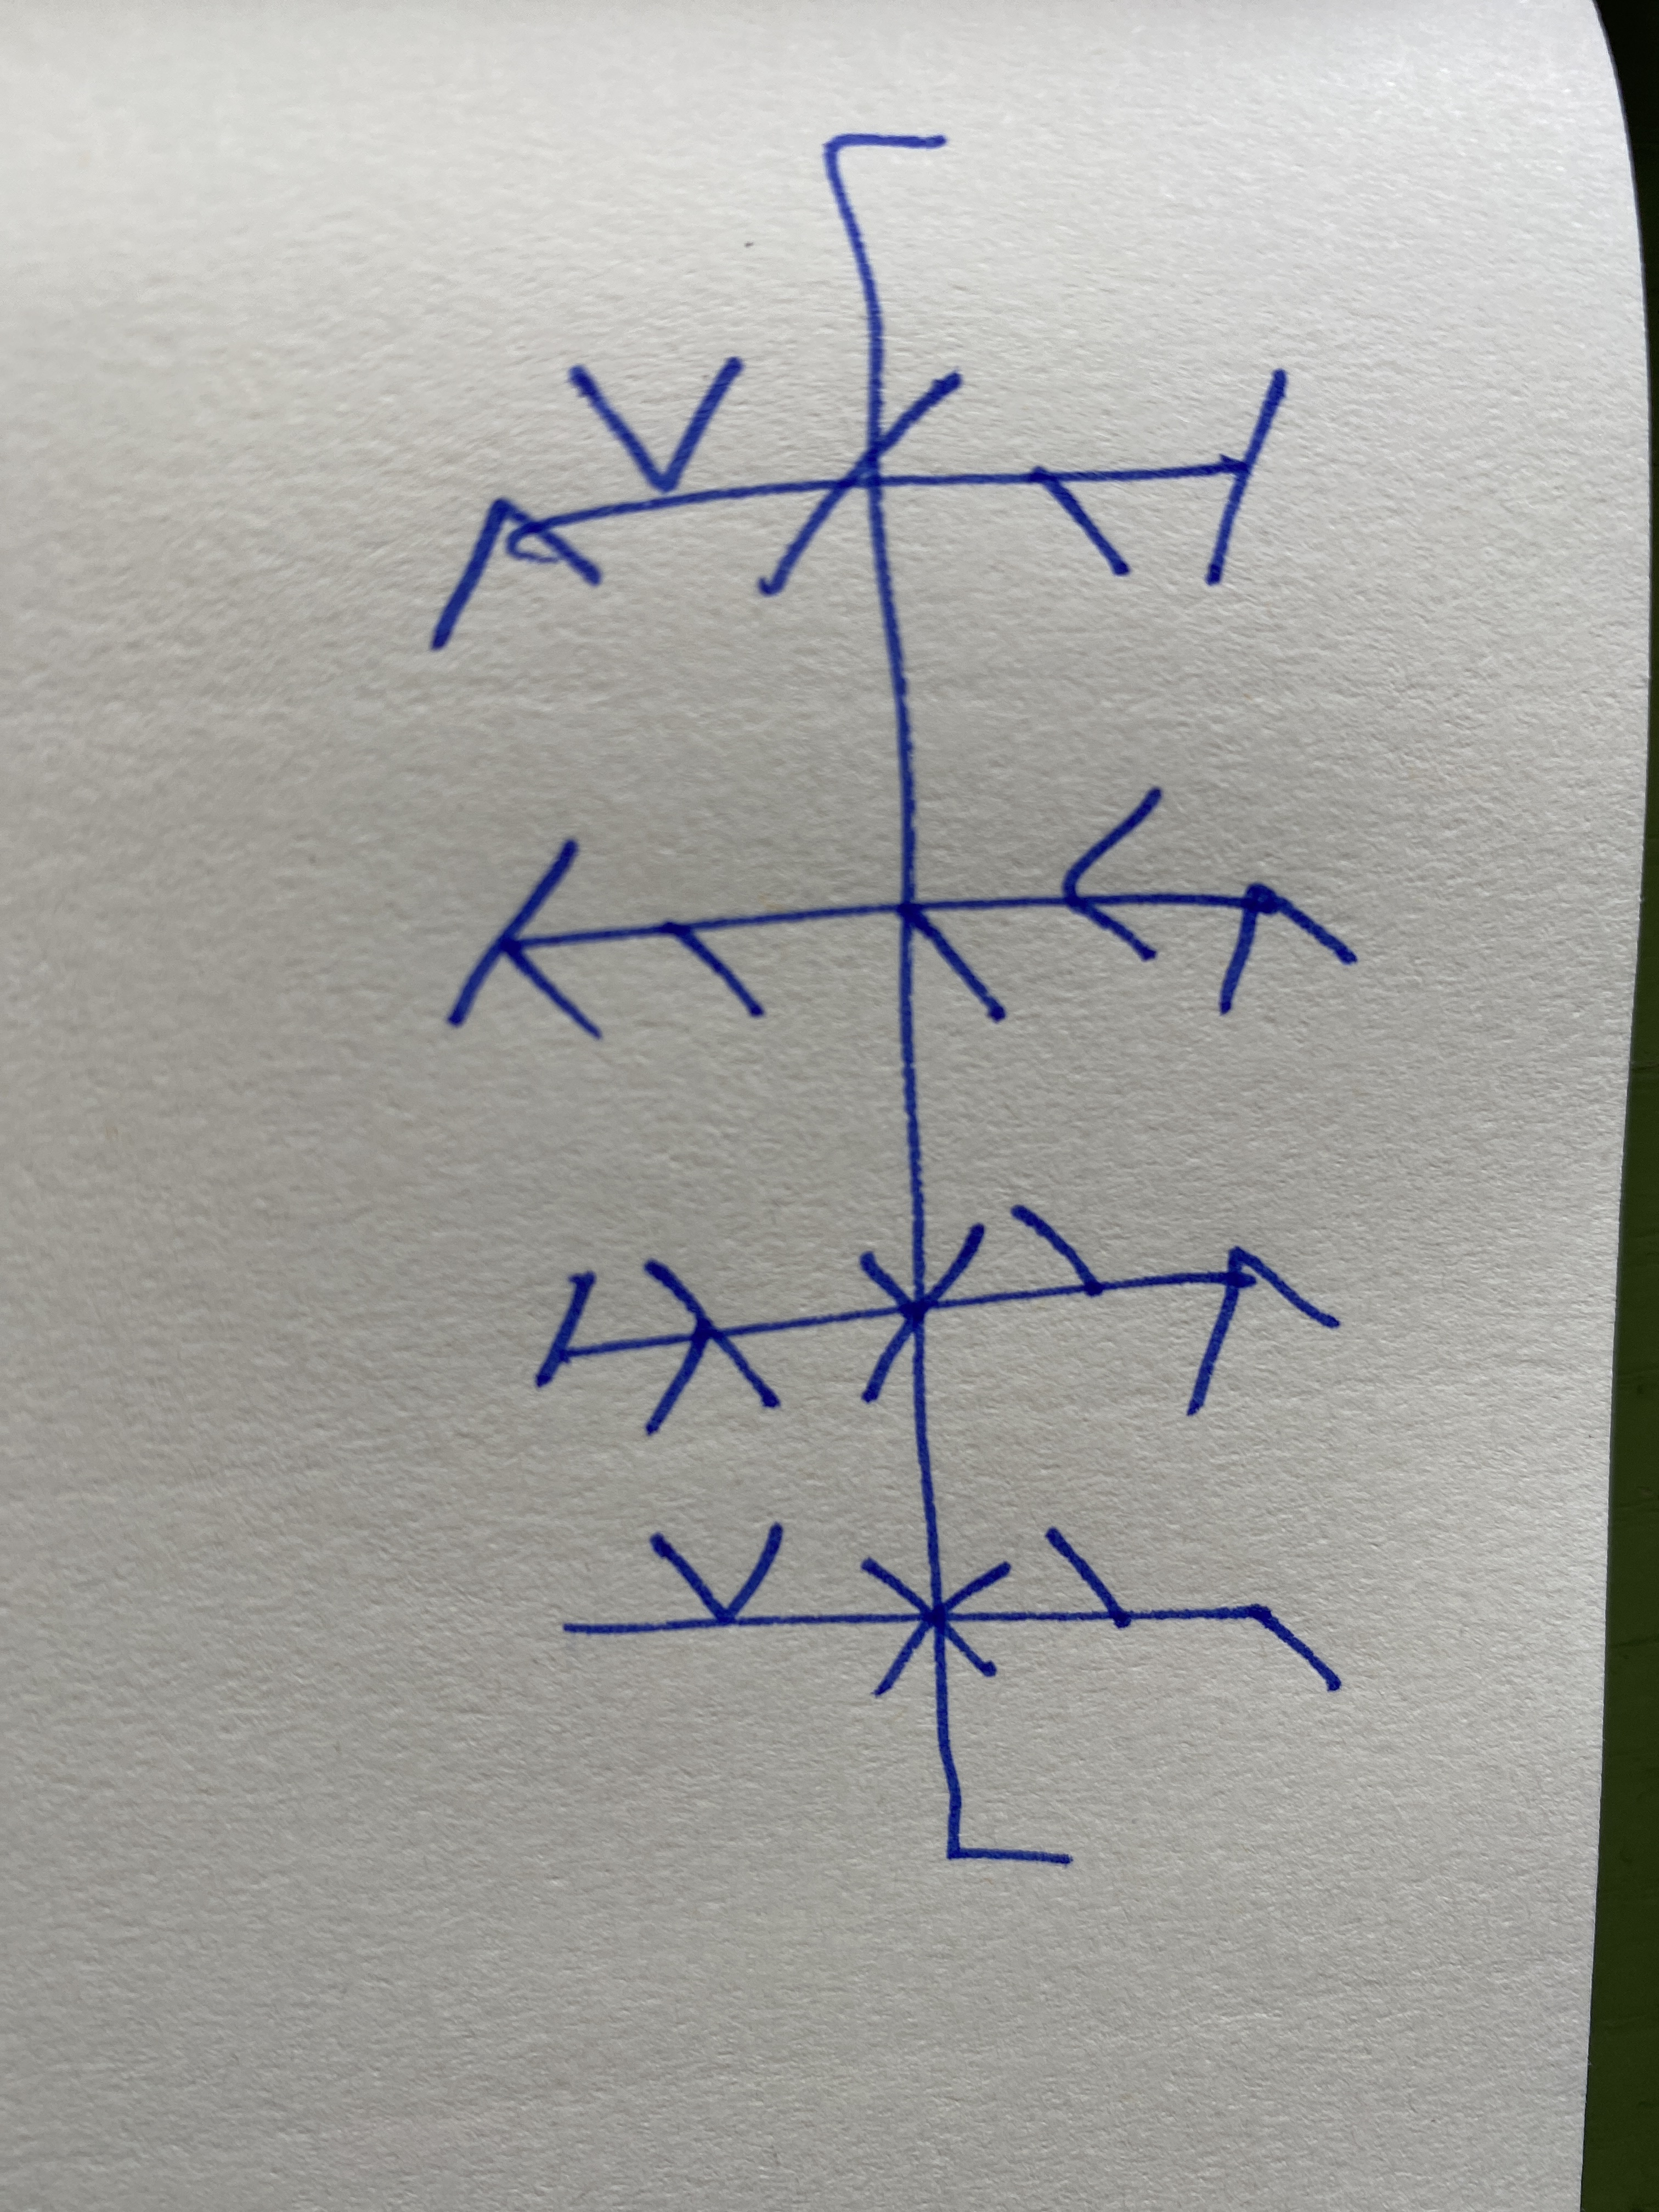Bar: (427, 357, 1288, 653), (444, 787, 1359, 1045), (533, 1202, 1342, 1440), (561, 1522, 1344, 1695)
Barcode: (429, 132, 1359, 1872)
End: (903, 1677, 1072, 1874)
Start: (819, 134, 948, 371)
